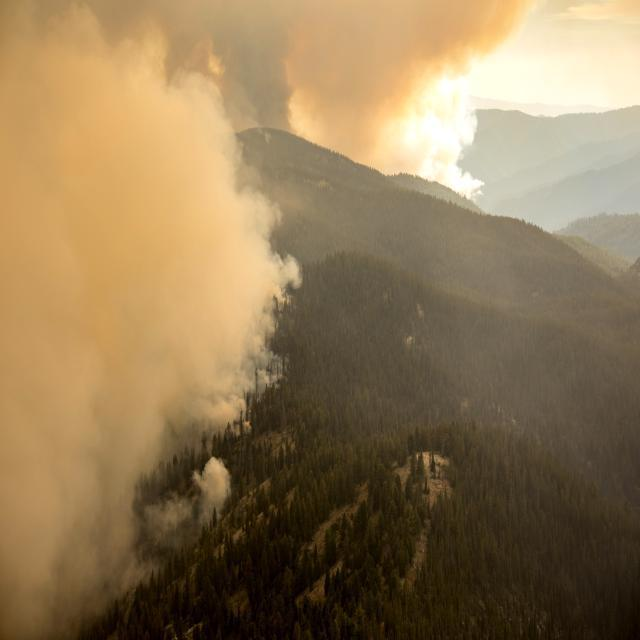Smoke: (0, 0, 279, 631), (0, 0, 488, 213)
